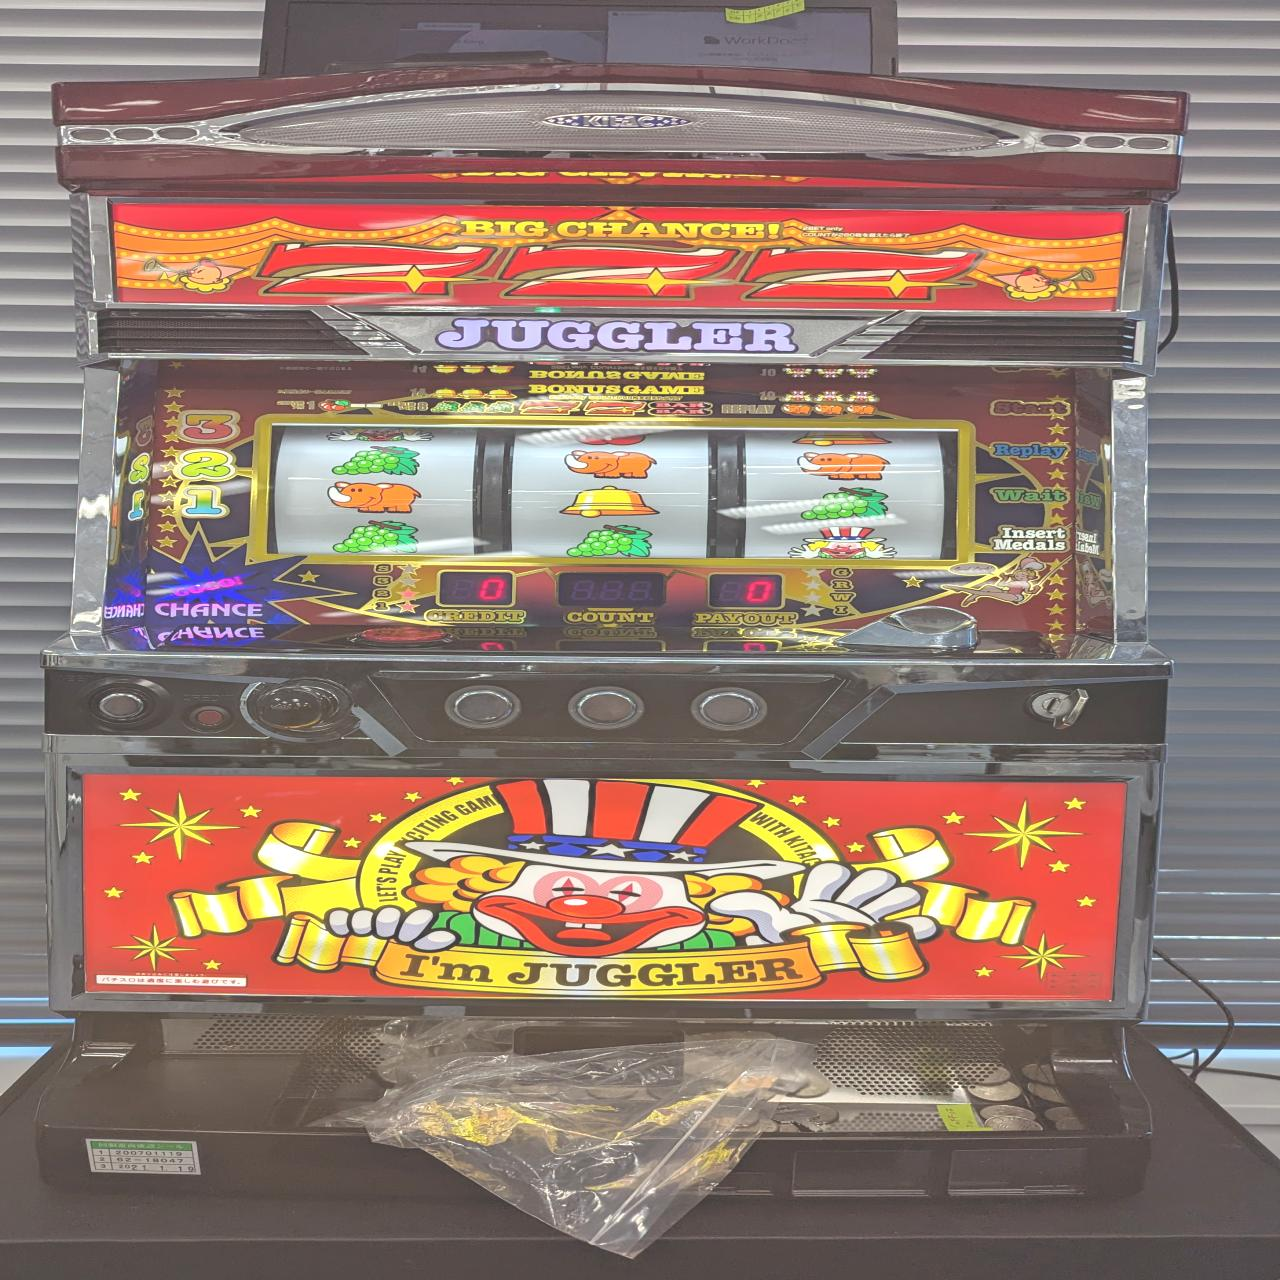7: (564, 520, 656, 561), (331, 517, 425, 554), (801, 488, 887, 524), (331, 444, 421, 478)
8: (556, 449, 660, 479), (794, 450, 892, 481), (324, 481, 417, 511)
Display: (259, 417, 968, 568)
bell: (558, 485, 660, 519)
clown: (782, 523, 898, 559)
